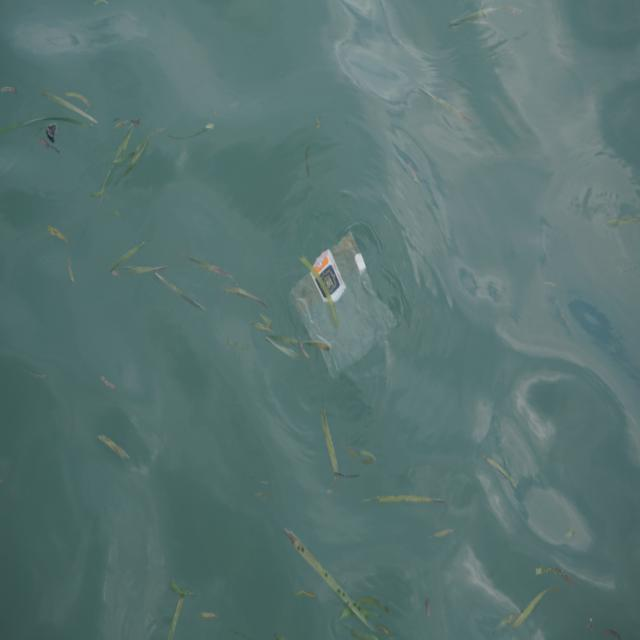Kantong Plastik: (290, 229, 399, 383)
